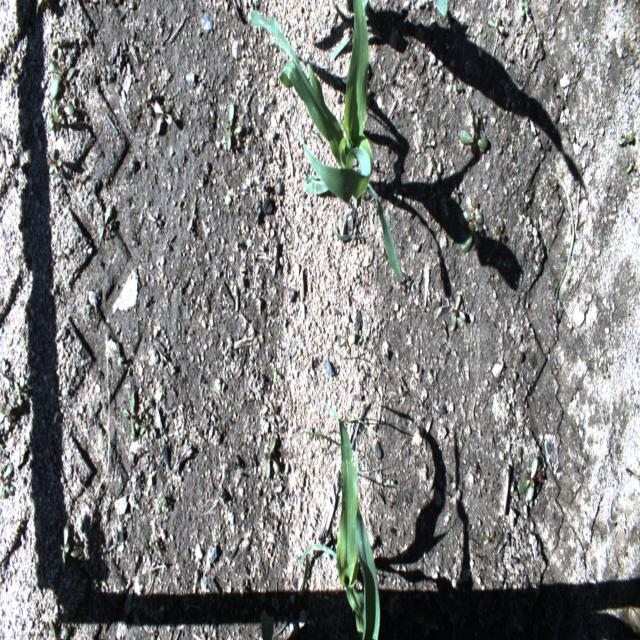crop: (250, 0, 403, 280), (318, 399, 380, 638)
weed: (460, 112, 492, 155), (49, 59, 76, 99), (518, 457, 538, 500), (450, 294, 466, 329), (223, 101, 234, 150), (49, 148, 62, 176)
